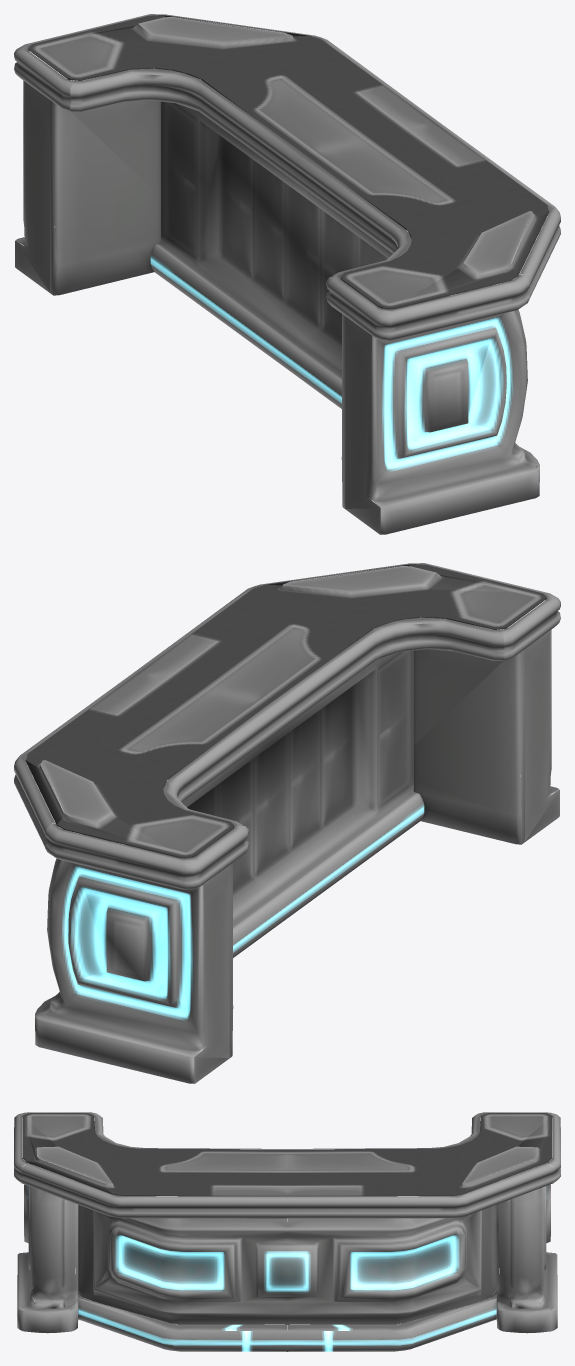
The model's file is bar_counter_5_b.glb.
The picture shows the model from 3 angles, top to bottom: view 1: azimuth 30°, elevation 25°; view 2: azimuth 150°, elevation 25°; view 3: azimuth 270°, elevation 25°; orthographic projection. The views are drawn at different scales.
Parts seen in each view (by area): view 1: bar_counter_5; view 2: bar_counter_5; view 3: bar_counter_5.
Part boxes in pixels (bbox=[...]): bar_counter_5: bbox=[14, 14, 560, 534]; bar_counter_5: bbox=[14, 563, 560, 1083]; bar_counter_5: bbox=[14, 1112, 560, 1351].
Bounding box in the file's own units: 1.29 × 1.12 × 3.35.
Materials: 1 (1 with a texture image).
